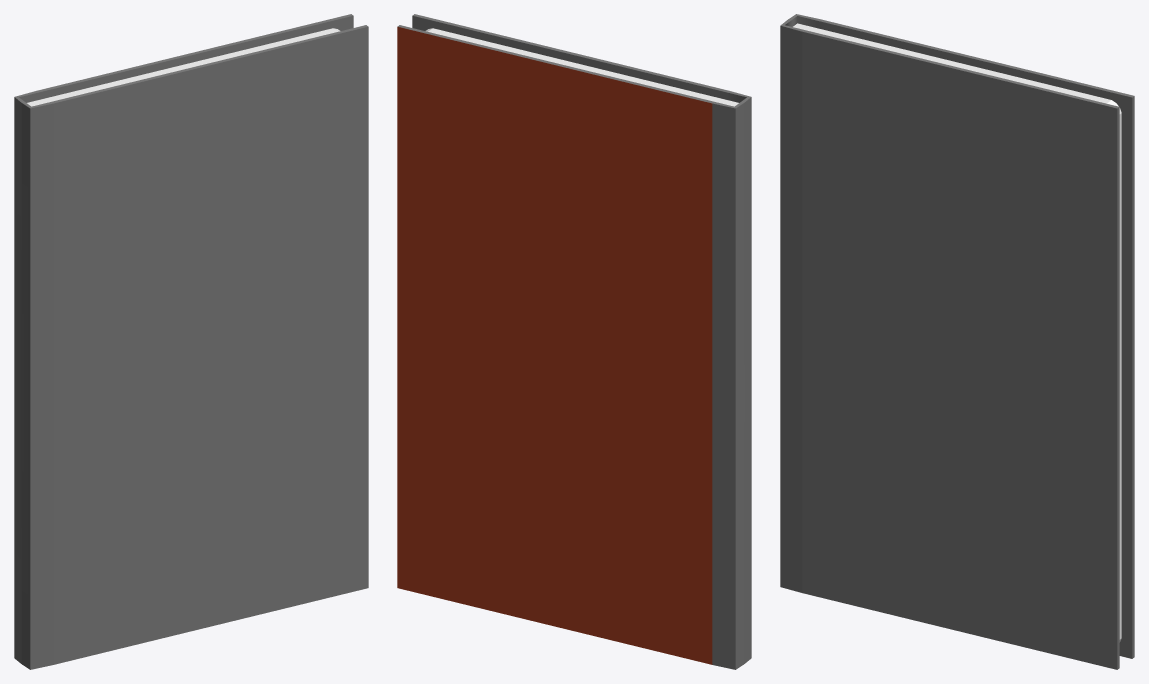
Rendered from book-cover.obj.
3 views of the same model, side by side, from view 1: azimuth 30°, elevation 25°; view 2: azimuth 150°, elevation 25°; view 3: azimuth 330°, elevation 25° (orthographic).
Parts seen in each view (by area): view 1: Plane21155; view 2: Plane21155; view 3: Plane21155.
Boxes of the visible parts, <box> form: Plane21155: <box>14,14,368,669</box>; Plane21155: <box>397,14,751,669</box>; Plane21155: <box>780,14,1134,669</box>.
Size of the model in its own units: 4.29 by 6.8 by 0.3794.
